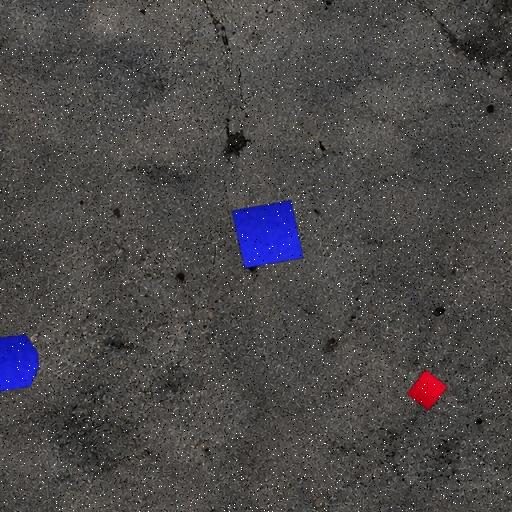BLUE_SQUARE: (230, 199, 304, 270)
RED_SQUARE: (406, 369, 449, 411)
